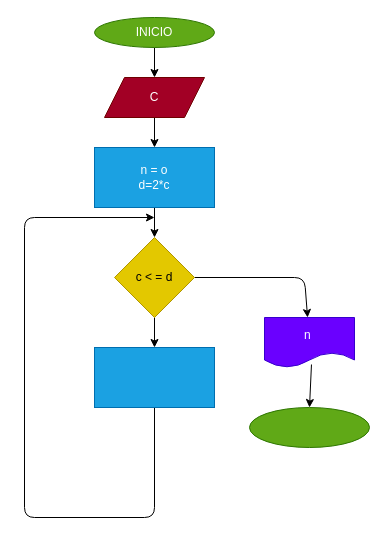
The diagram is 387 pixels wide and 543 high, and some of its shapes have lost their labels. Here are the shapes that lost their labels. From the top down, the centre of each, then its label:
At point (154, 377): "c = 1.05 * c n =- n + 1".
At point (309, 427): "FIN".
